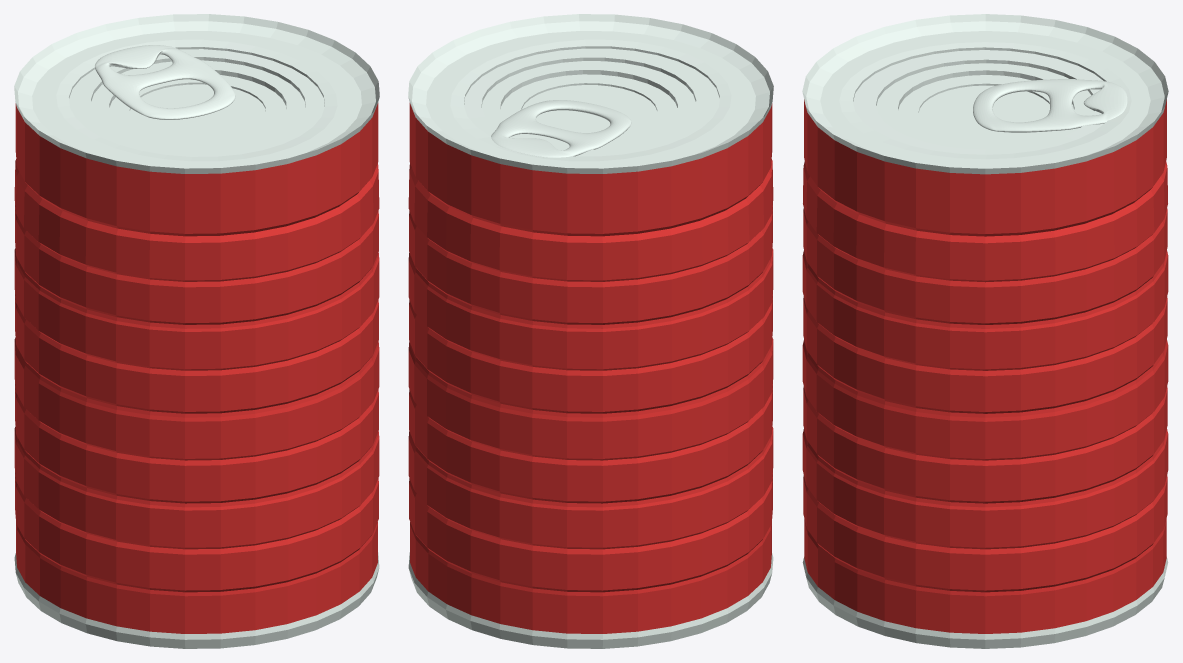
File: lata.fbx
The picture shows the model from 3 angles, left to right: view 1: azimuth 30°, elevation 25°; view 2: azimuth 150°, elevation 25°; view 3: azimuth 270°, elevation 25°; orthographic projection.
Parts seen in each view (by area): view 1: Cylinder, Cube; view 2: Cylinder, Cube; view 3: Cylinder, Cube.
Part boxes in pixels (x1,y1,x2,y2): Cylinder: (14, 14, 379, 648); Cube: (95, 45, 235, 119); Cylinder: (408, 14, 773, 648); Cube: (491, 100, 631, 157); Cylinder: (802, 14, 1168, 648); Cube: (973, 79, 1127, 132).
Size of the model in its own units: 200 by 291 by 200.
